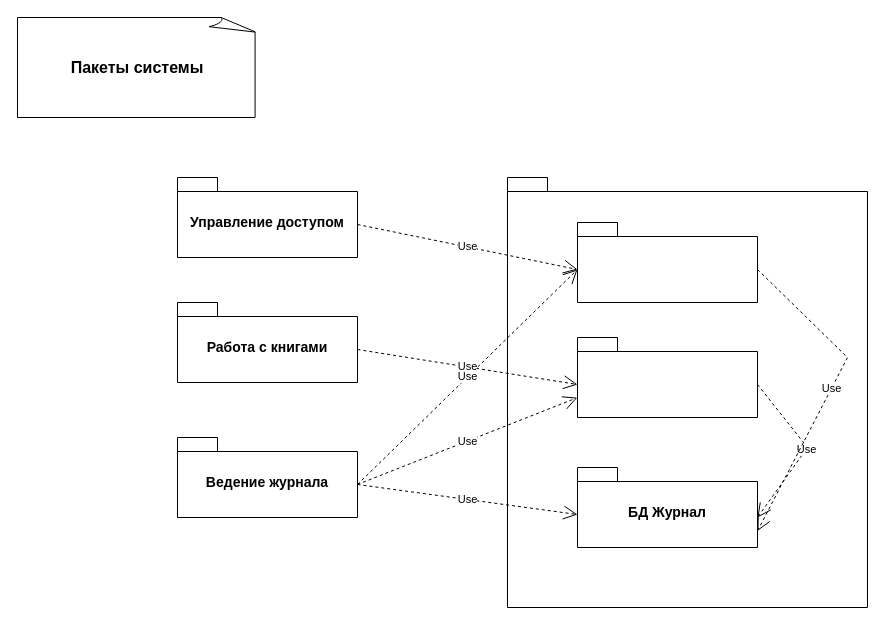
Some shapes in this 885 by 625 pixel diagram are drawn without their labels. Here are the shapes that lost their labels. From the top down, the centre of each, then its label:
At (667,262): "БД Персонал".
At (667,377): "БД Книги".
